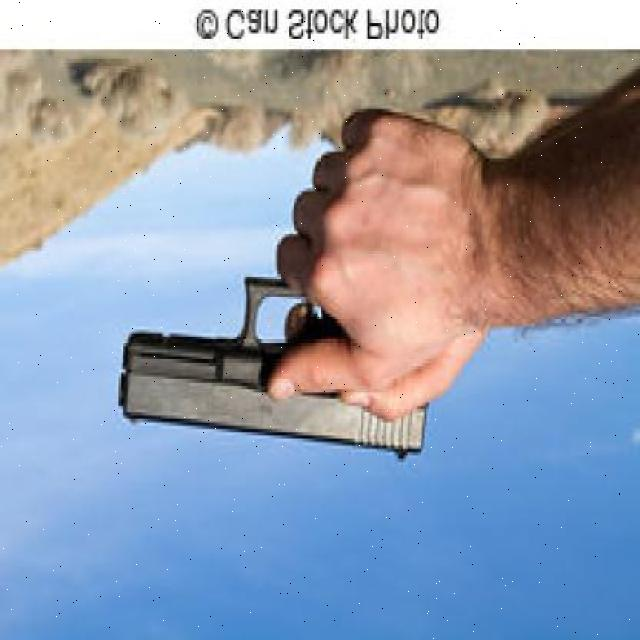gun: (107, 225, 478, 475)
